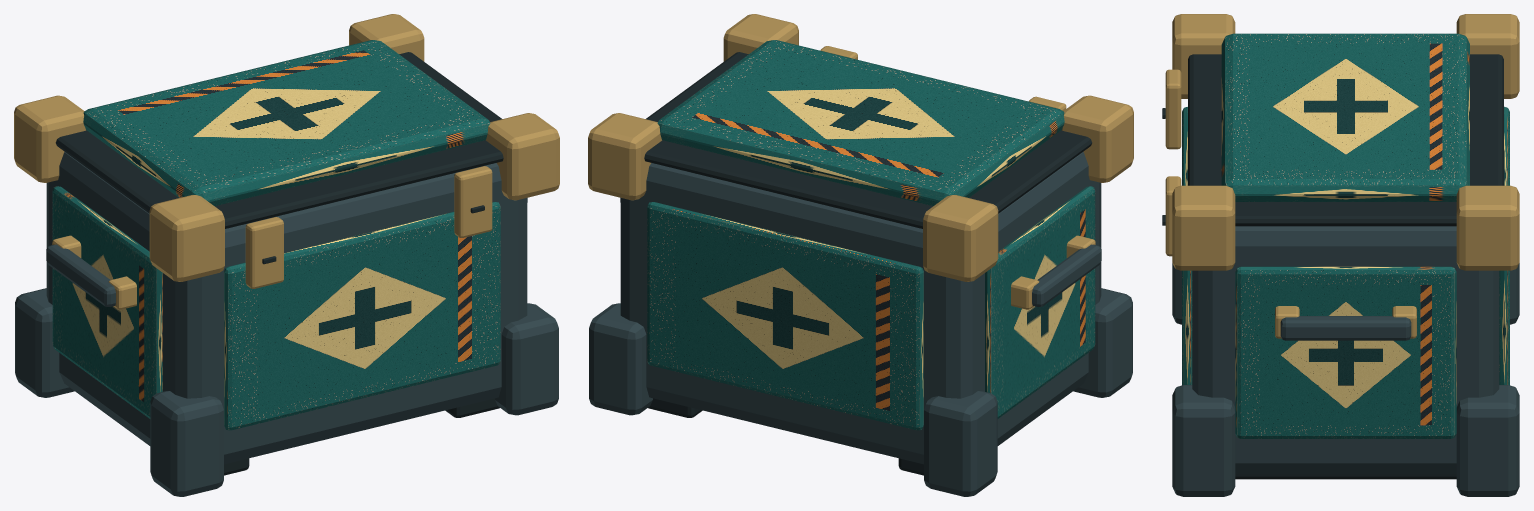
File: model.web.glb
The picture shows the model from 3 angles, left to right: view 1: azimuth 30°, elevation 25°; view 2: azimuth 150°, elevation 25°; view 3: azimuth 270°, elevation 25°; orthographic projection. The views are drawn at different scales.
Visible parts, largest first — view 1: Front rescue panel, Carry handle grip, Corner cap, Latch key slot; view 2: Front rescue panel, Carry handle grip, Corner cap, Latch key slot; view 3: Front rescue panel, Carry handle grip, Corner cap, Latch key slot.
Part boxes in pixels (box(x1,y1,x2,y2)): Front rescue panel: box(52, 40, 500, 430); Carry handle grip: box(15, 152, 558, 496); Corner cap: box(14, 14, 559, 309); Latch key slot: box(55, 52, 503, 475); Front rescue panel: box(647, 40, 1095, 430); Carry handle grip: box(589, 152, 1132, 496); Corner cap: box(588, 14, 1133, 309); Latch key slot: box(644, 52, 1092, 475); Front rescue panel: box(1182, 33, 1509, 438); Carry handle grip: box(1172, 226, 1519, 496); Corner cap: box(1165, 14, 1519, 338); Latch key slot: box(1162, 54, 1503, 479).
Bounding box in the file's own units: 1.14 × 0.7275 × 0.792.
4 materials, 1 textured.
